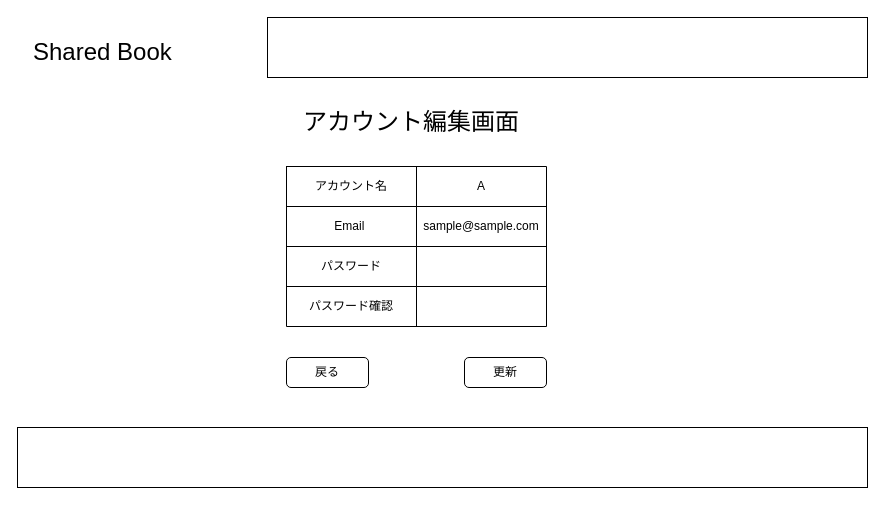
Image size: 885x505. Some labels were removed from this diagram. Here are the shapes that lost their labels. From the top down, the box of each, then its label:
(266, 16, 868, 78): 収入支出一覧 項目一覧 カレンダー一覧 月別グラフ 割勘一覧 アカウント ログアウト
(16, 426, 868, 488): @ 2024 Shared Book ALL RIGHTS RESERVED.
